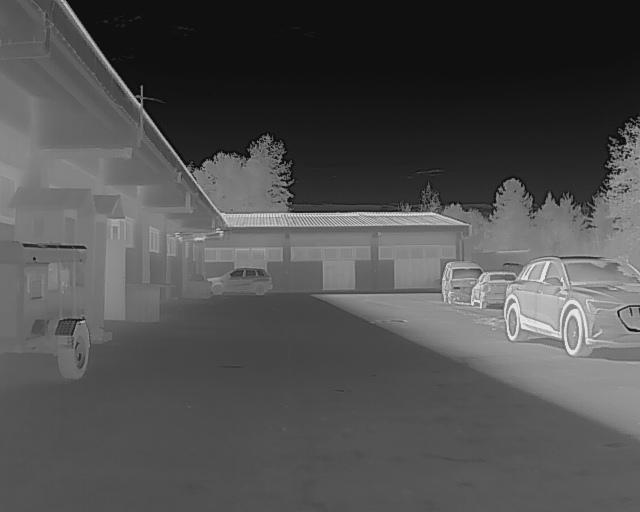drone: (166, 218, 230, 252)
